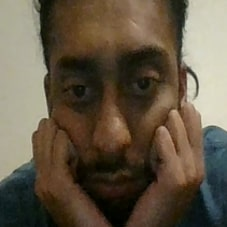drowsy: (28, 42, 210, 227)
